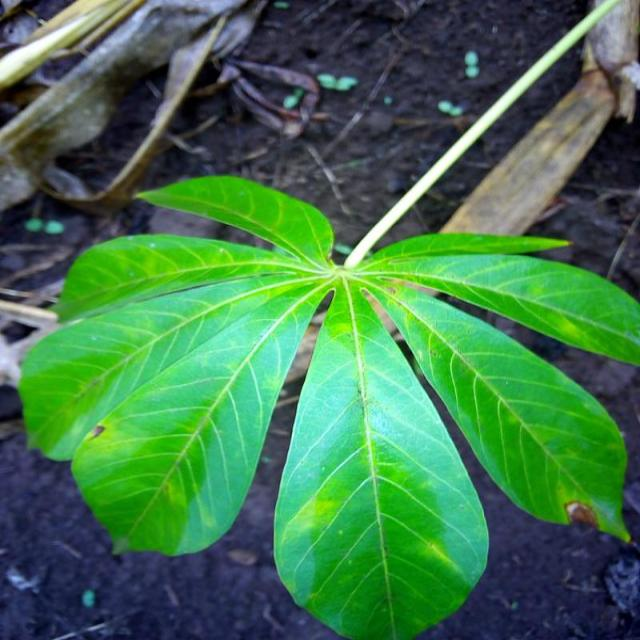cassava leaf: (17, 172, 638, 637), (272, 275, 490, 638)
